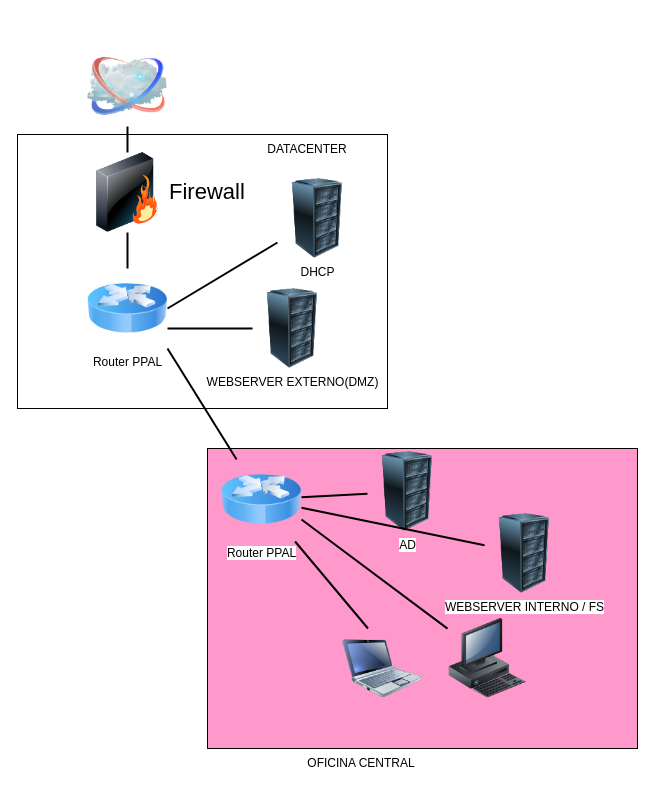
This 655x795 diagram has some shape labels left out. The shapes that lost their labels are listed below. From the top down, each one's centre as x and y in pixels, then its label:
At point 127,86: "INTERNET".
At point 382,668: "Laptop".
At point 487,658: "PC".
